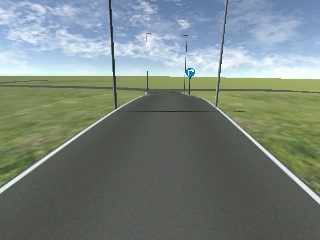right: (187, 68, 195, 79)
